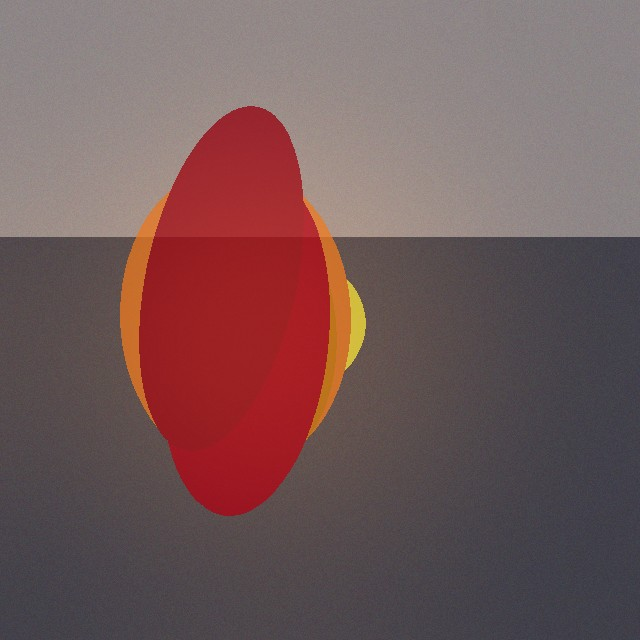fire: (147, 198, 385, 482)
